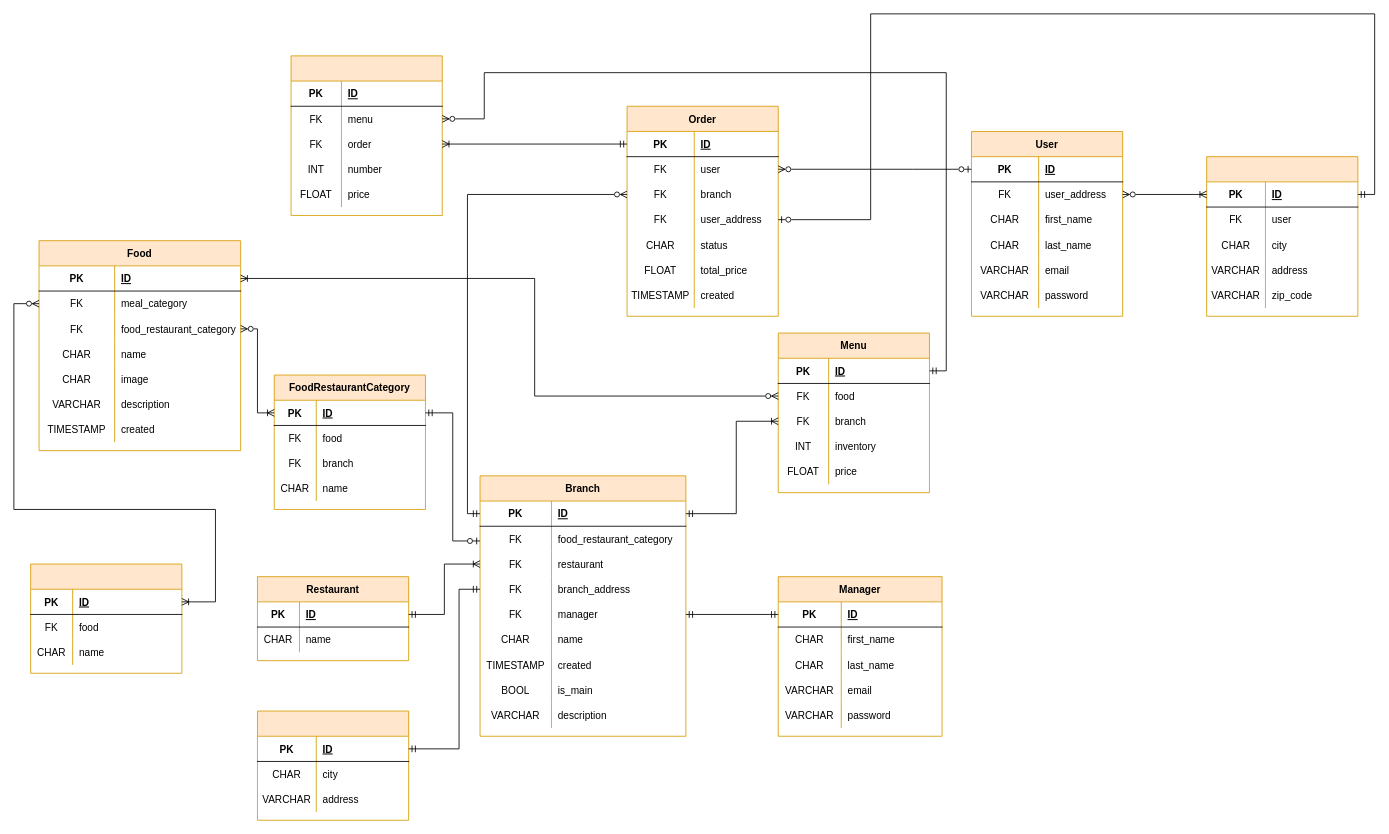
Image size: 1389x834. Some labels were removed from this diagram. Here are the shapes that lost their labels. From the top down, the box of each, then its label:
(290, 55, 442, 215): MenuOrder
(1206, 156, 1358, 316): UserAddress
(30, 563, 182, 673): MealCategory
(257, 710, 409, 820): BranchAddress
